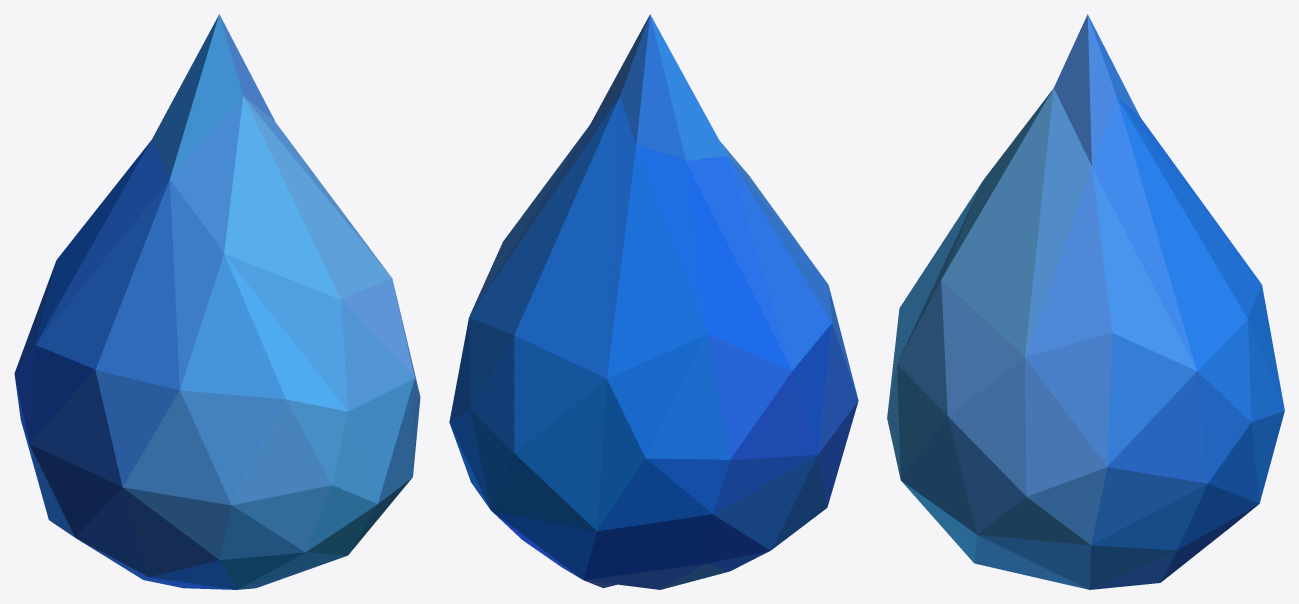
Rendered from water.fbx.
3 views of the same model, side by side, from view 1: azimuth 30°, elevation 25°; view 2: azimuth 150°, elevation 25°; view 3: azimuth 270°, elevation 25° (orthographic).
Visible parts, largest first — view 1: Mesh_0; view 2: Mesh_0; view 3: Mesh_0.
Boxes of the visible parts, x1=… form: Mesh_0: x1=14, y1=14, x2=420, y2=589; Mesh_0: x1=449, y1=14, x2=858, y2=589; Mesh_0: x1=887, y1=14, x2=1284, y2=589.
Size of the model in its own units: 128 by 188 by 124.
1 material, 1 textured.
